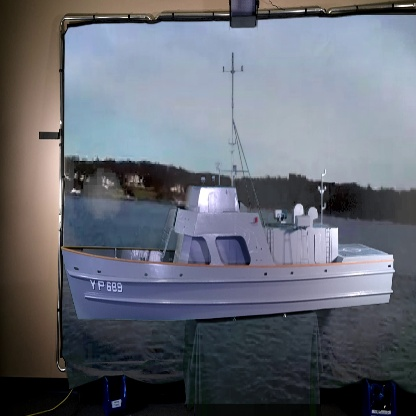YP689: (61, 45, 394, 324)
